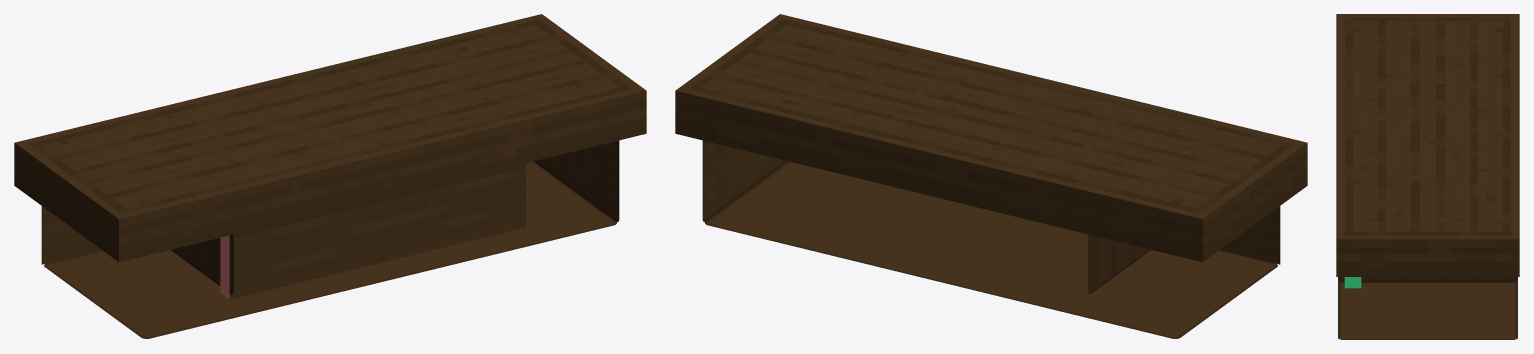
The model's file is MainTable.fbx.
3 views of the same model, side by side, from view 1: azimuth 30°, elevation 25°; view 2: azimuth 150°, elevation 25°; view 3: azimuth 270°, elevation 25° (orthographic). The views are drawn at different scales.
Visible parts, largest first — view 1: TableTop, TableBase, BaseBack; view 2: TableTop, TableBase; view 3: TableTop, TableBase, BaseBack.
Part boxes in pixels (x1=…): TableTop: x1=14, y1=14, x2=646, y2=262; TableBase: x1=41, y1=140, x2=619, y2=338; BaseBack: x1=220, y1=163, x2=526, y2=299; TableTop: x1=675, y1=14, x2=1307, y2=262; TableBase: x1=702, y1=140, x2=1280, y2=338; TableTop: x1=1336, y1=14, x2=1519, y2=276; TableBase: x1=1338, y1=277, x2=1517, y2=339; BaseBack: x1=1344, y1=277, x2=1361, y2=288.
Size of the model in its own units: 400 by 92.59 by 138.
3 materials, 3 textured.
